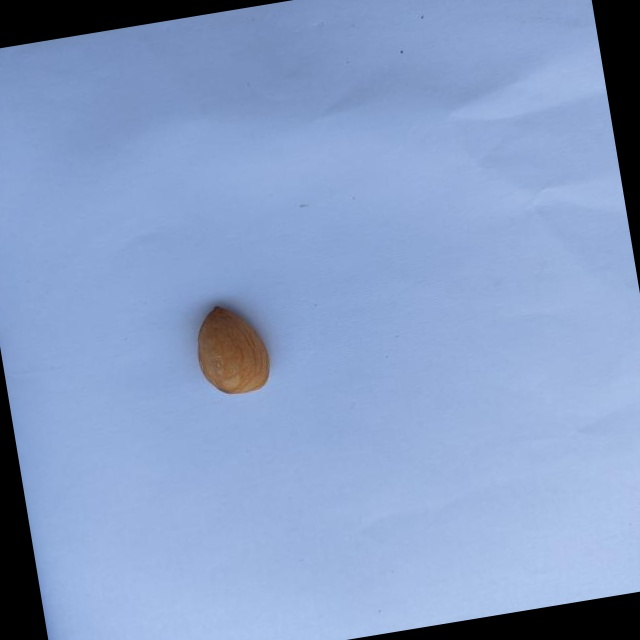grade2: (187, 295, 281, 403)
